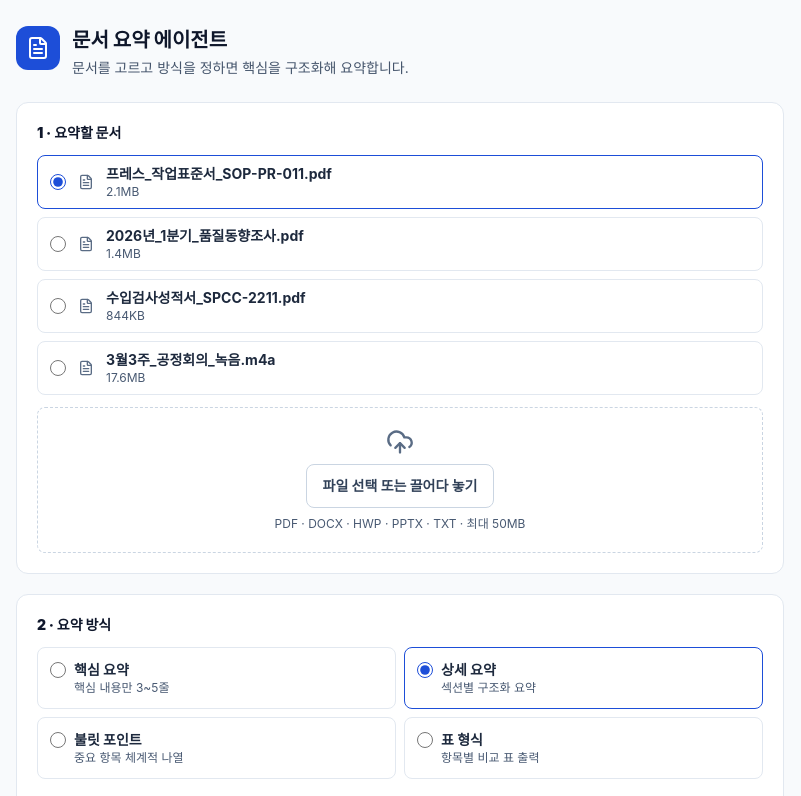
Test case: SummaryPage › 요약 방식을 바꾸면 결과 내용이 달라진다
Click the radio button labelled "핵심 요약 핵심 내용만 3~5줄". click: x=58, y=670
box: x1=50 y1=662 x2=66 y2=678
(page scrolled)
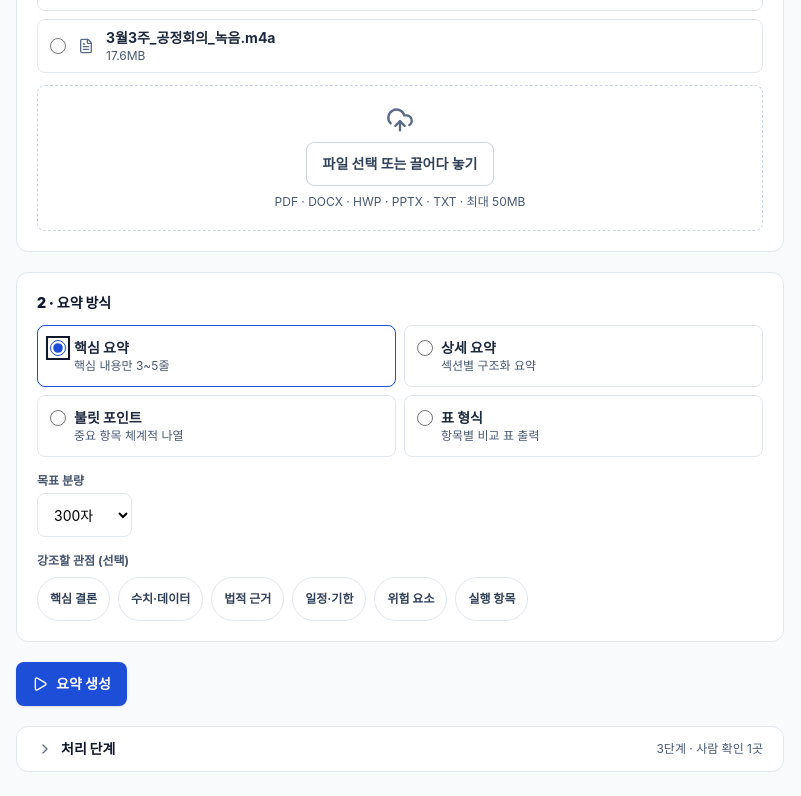
Click the button "요약 생성". click: x=71, y=684
box: x1=16 y1=662 x2=127 y2=706
(page scrolled)
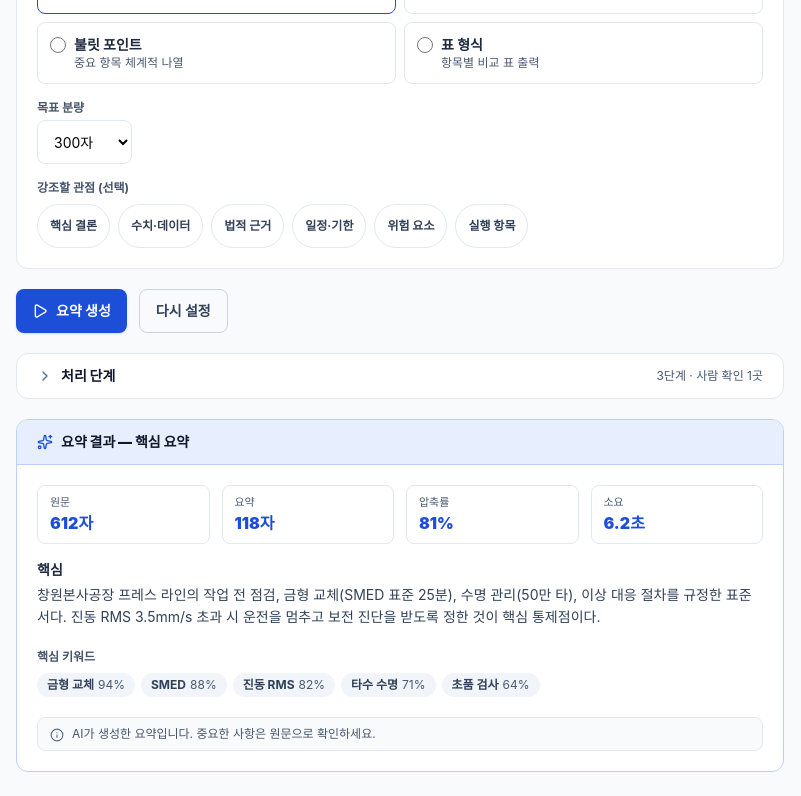
Check: the element "요약 결과" shows "핵심 요약", box x1=61 y1=433 x2=189 y2=450
Check: the heading "핵심" is shown, box x1=37 y1=560 x2=63 y2=578
